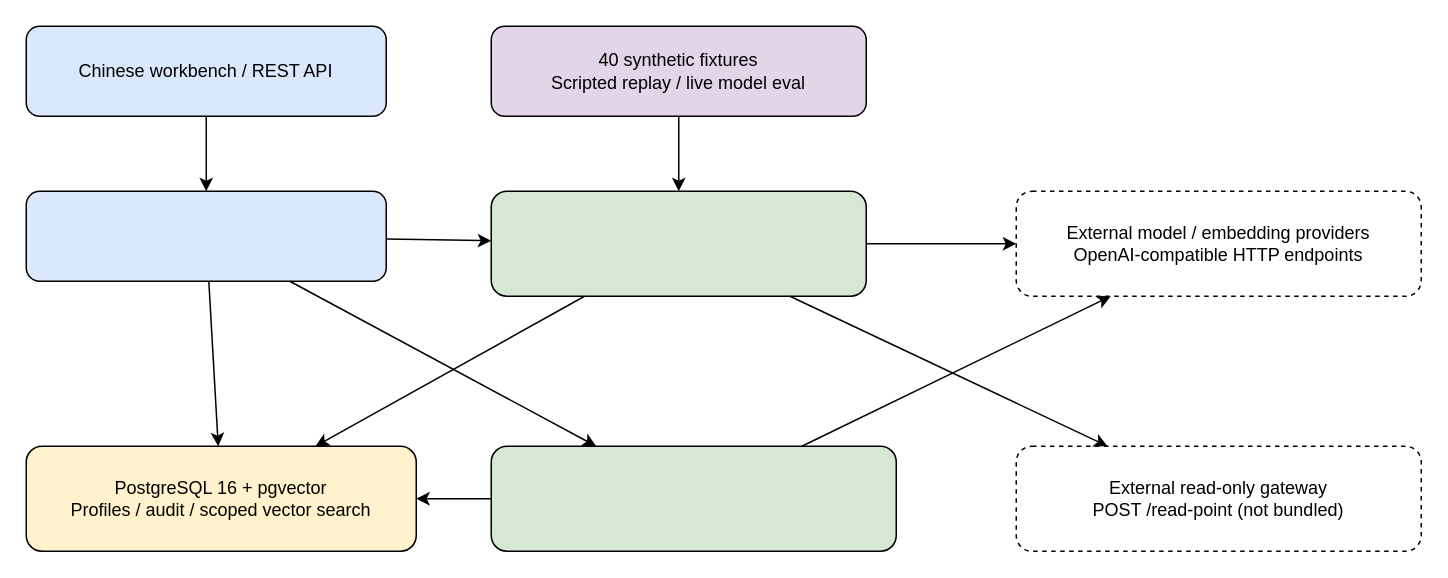
Image size: 1448x578. Some labels were removed from this diagram. Here are the shapes that lost their labels. From the top down, the centre of each, then its label:
the point at 205,235: FastAPI / Pydantic / SQLAlchemy 2
the point at 678,243: Bounded diagnosis loop Input rules / tool schemas / audit
the point at 693,498: Redis + Celery document worker Parse / extract / human review / DRAFT
